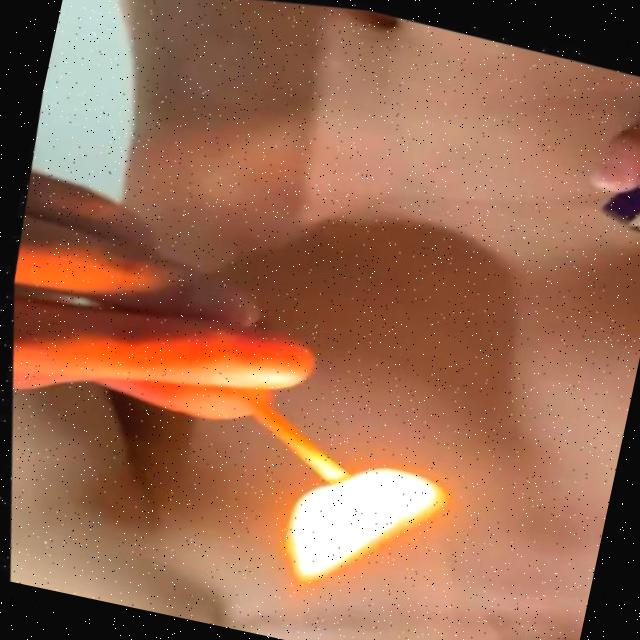fire: (251, 428, 472, 621)
